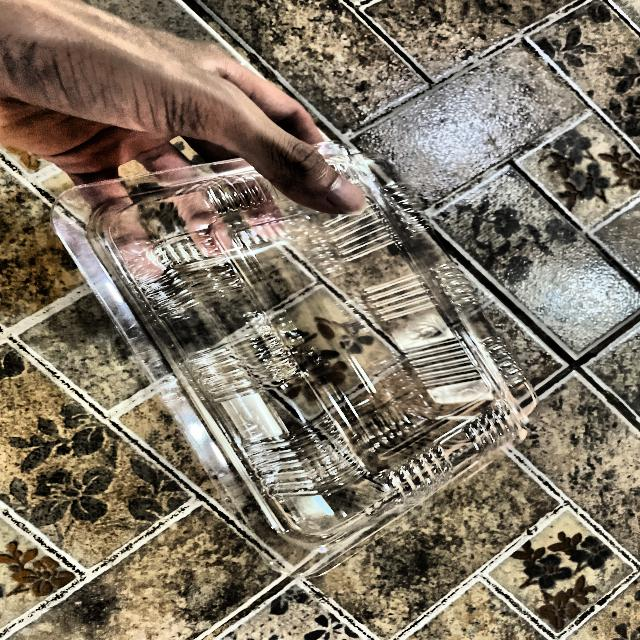plastic container: (60, 127, 547, 570)
